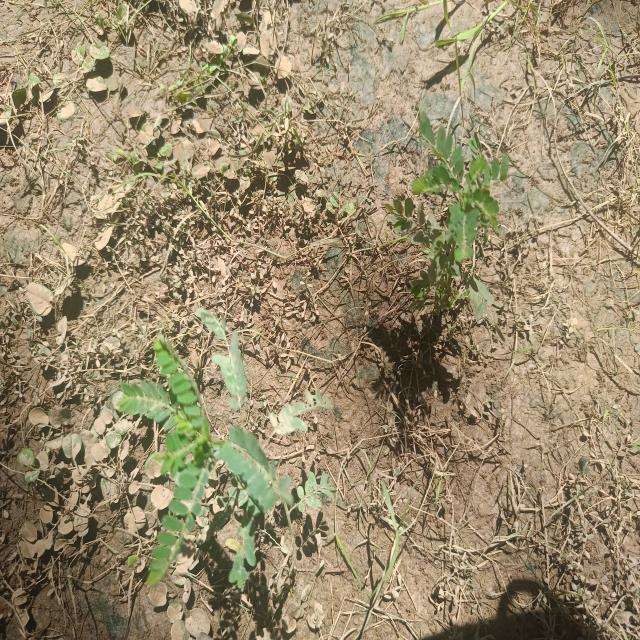weed: (117, 342, 312, 593), (375, 108, 522, 299)
